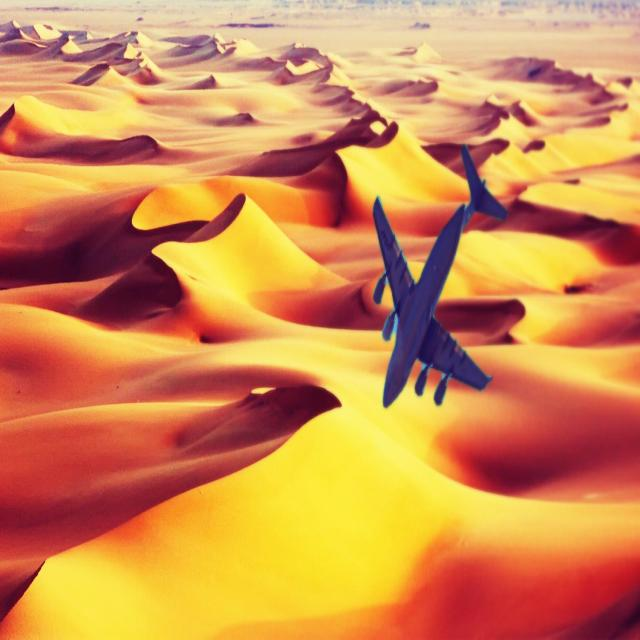airplane: (372, 140, 508, 409)
